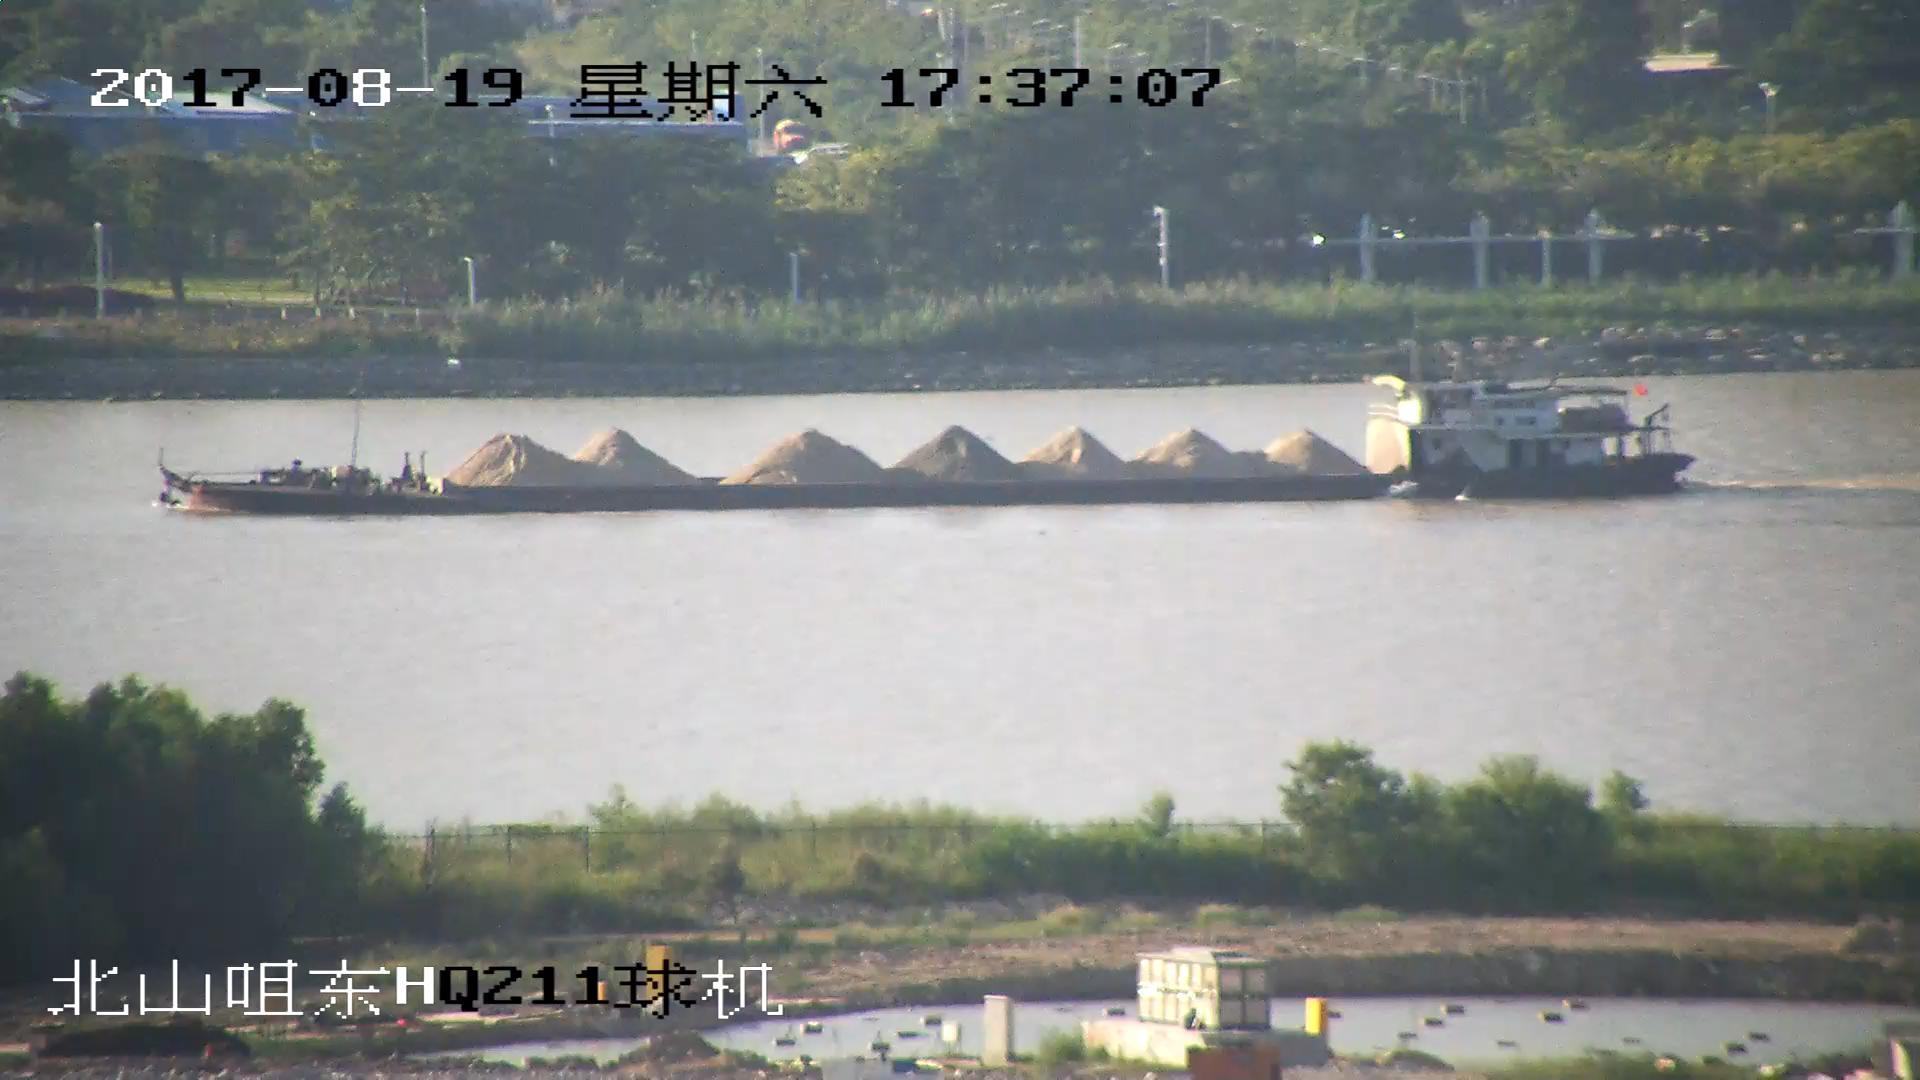Ship: (149, 347, 1698, 517)
